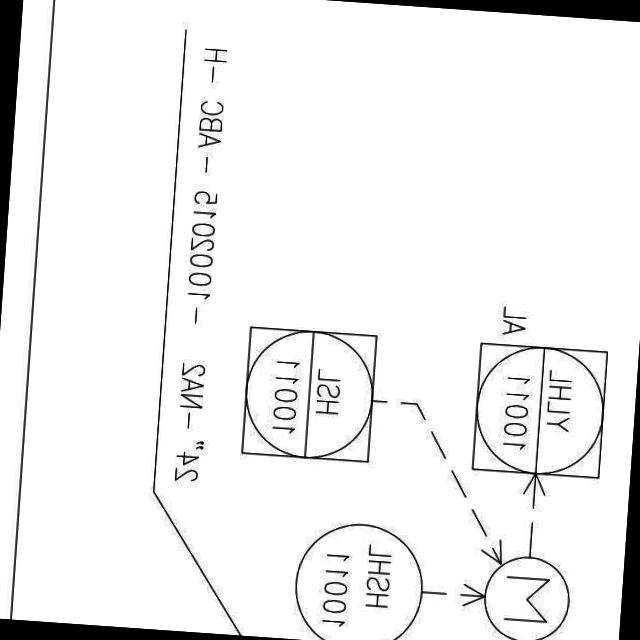M: (480, 551, 576, 640)
